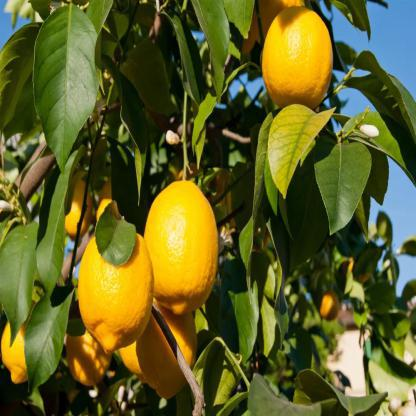lemon: (142, 179, 220, 316), (75, 221, 156, 352), (260, 4, 338, 115)
